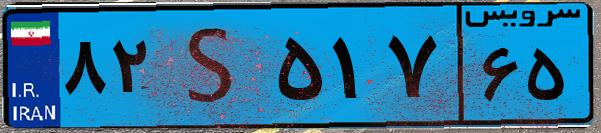1: (330, 28, 385, 110)
2: (110, 28, 158, 98)
5: (270, 28, 330, 110), (525, 38, 570, 115)
6: (475, 38, 525, 113)
7: (385, 28, 445, 110)
8: (57, 26, 110, 100)
S: (158, 12, 270, 120)
